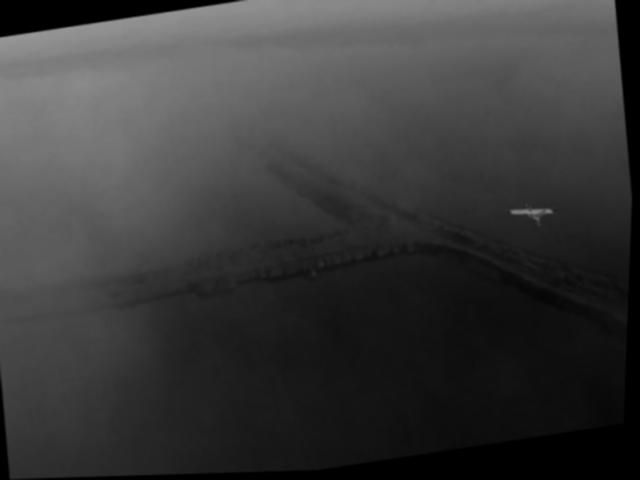hedef: (504, 197, 567, 238)
